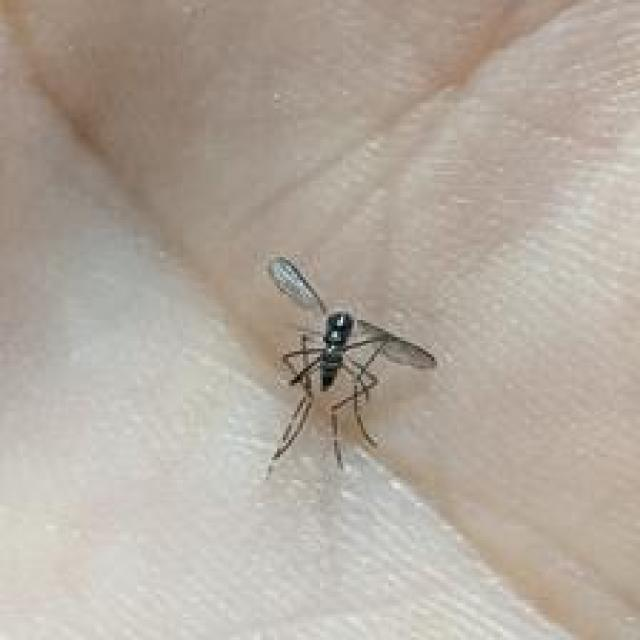Aedes albopictus: (263, 253, 437, 478)
